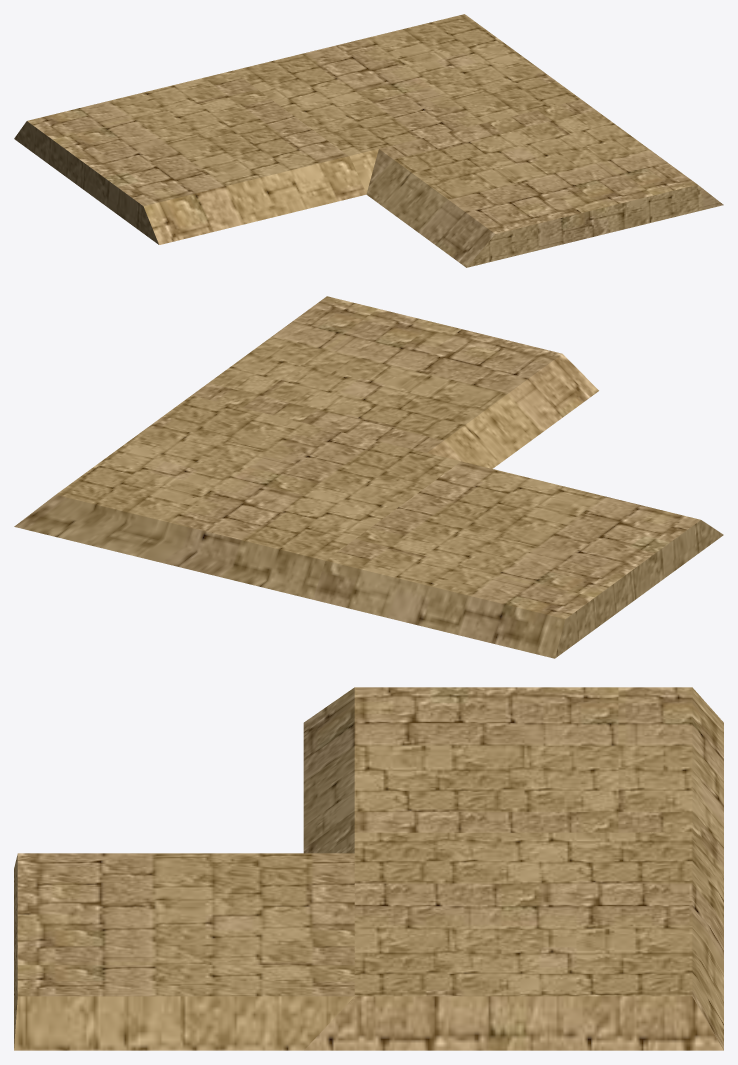
File: Platform_2.fbx
The picture shows the model from 3 angles, top to bottom: view 1: azimuth 30°, elevation 25°; view 2: azimuth 150°, elevation 25°; view 3: azimuth 270°, elevation 25°; orthographic projection. The views are drawn at different scales.
Visible parts, largest first — view 1: pCube201; view 2: pCube201; view 3: pCube201.
Boxes of the visible parts, x1,y1,x2,y2 form: pCube201: (14, 14, 723, 267); pCube201: (14, 296, 723, 658); pCube201: (14, 687, 723, 1050).
Bounding box in the file's own units: 4.26 × 0.2232 × 3.89.
